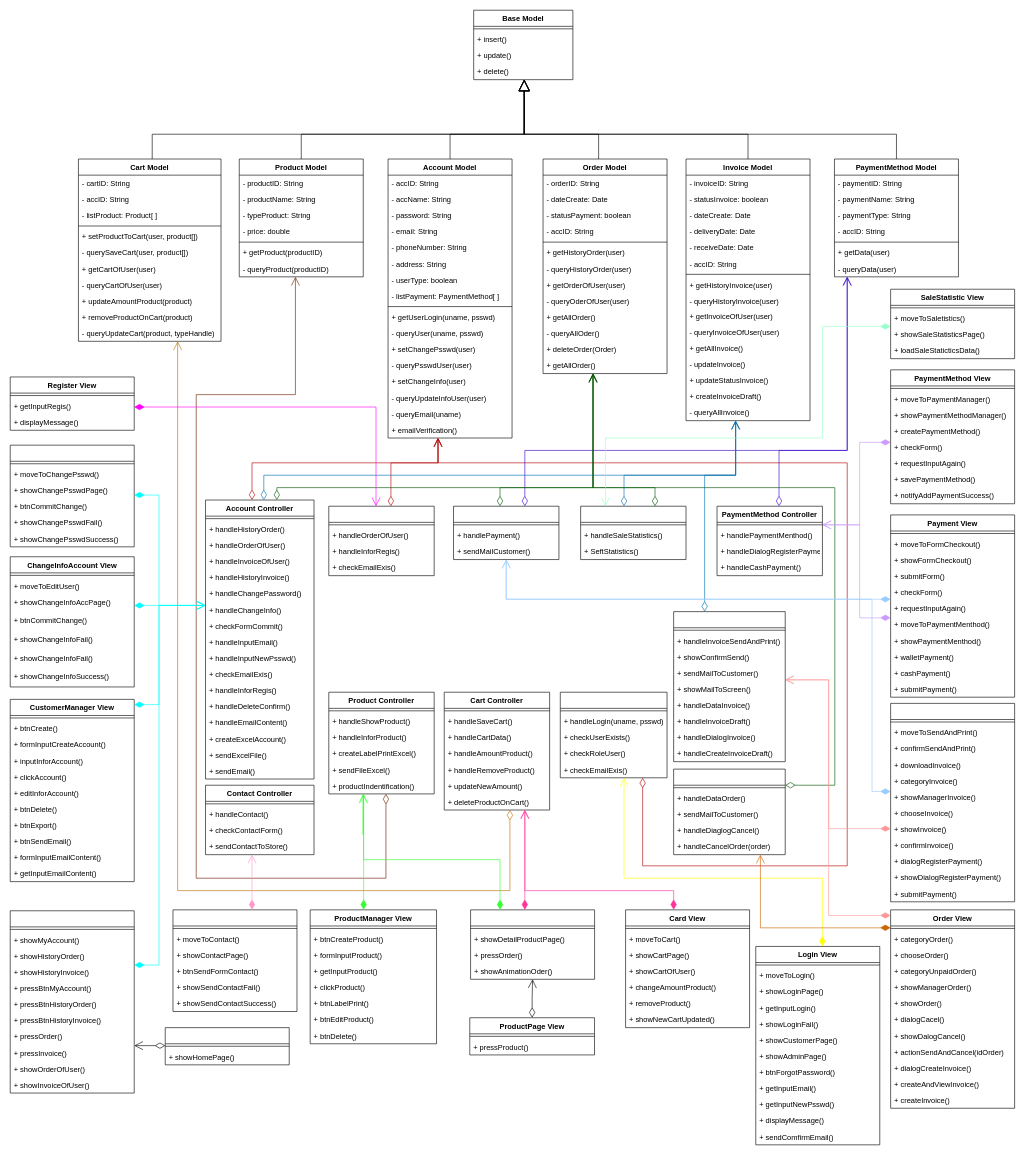
This 1025x1155 diagram has some shape labels left out. The box of each missing label's shape, as (x1, y1, x2, y2) in pixels:
ChangePasswordPage View: (10, 445, 134, 547)
Contact View: (172, 909, 297, 1012)
DetailProductPage View: (470, 909, 595, 979)
HomePage View: (165, 1027, 289, 1065)
Invoice Controller: (673, 611, 785, 762)
Invoice View: (890, 703, 1015, 902)
Login Controller: (560, 692, 667, 778)
MyAccount View: (10, 910, 134, 1093)
Order Controller: (673, 768, 785, 855)
Payment Controller: (453, 506, 559, 560)
Register Controller: (328, 506, 434, 576)
SaleStatistics Controller: (580, 506, 686, 560)
